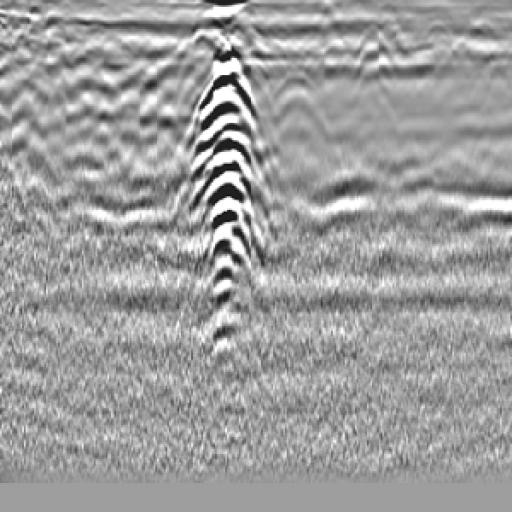metalic: (185, 30, 271, 354)
nonmetalic: (256, 64, 344, 169)
